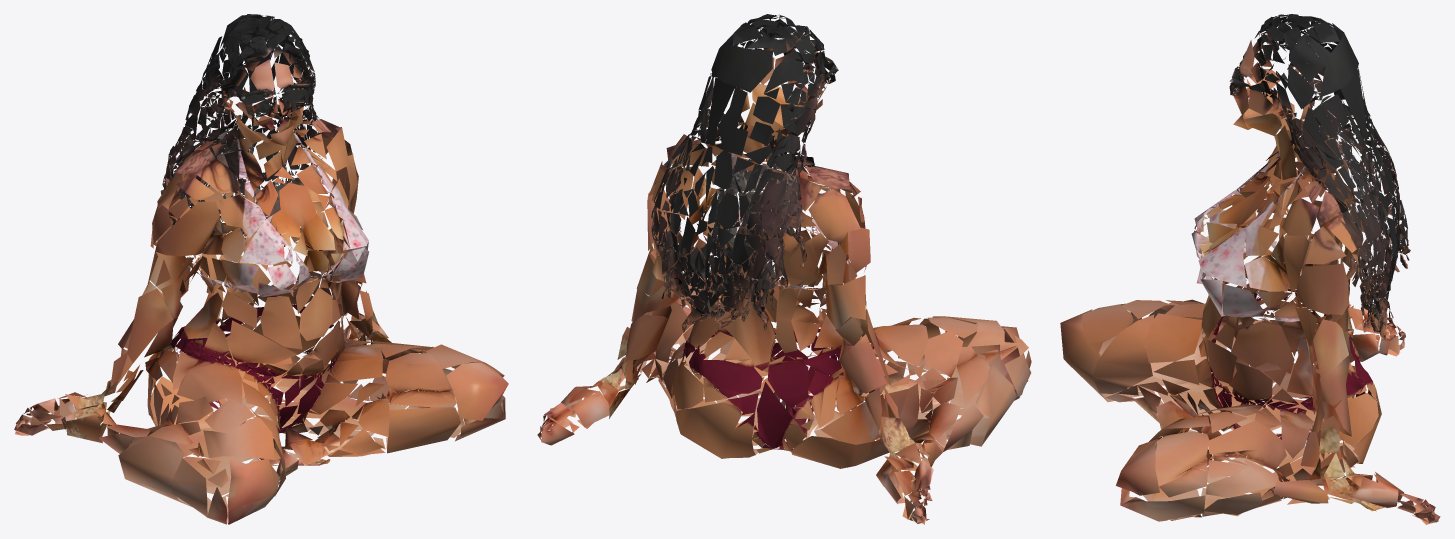
The model's file is beach_sit.glb.
3 views of the same model, side by side, from view 1: azimuth 30°, elevation 25°; view 2: azimuth 150°, elevation 25°; view 3: azimuth 270°, elevation 25° (orthographic). The views are drawn at different scales.
Parts seen in each view (by area): view 1: beach_sit; view 2: beach_sit; view 3: beach_sit.
Boxes of the visible parts, x1,y1,x2,y2 form: beach_sit: [14, 14, 508, 524]; beach_sit: [537, 14, 1031, 524]; beach_sit: [1060, 14, 1440, 524].
Bounding box in the file's own units: 0.9319 × 0.95 × 0.7607.
1 material, 1 textured.
